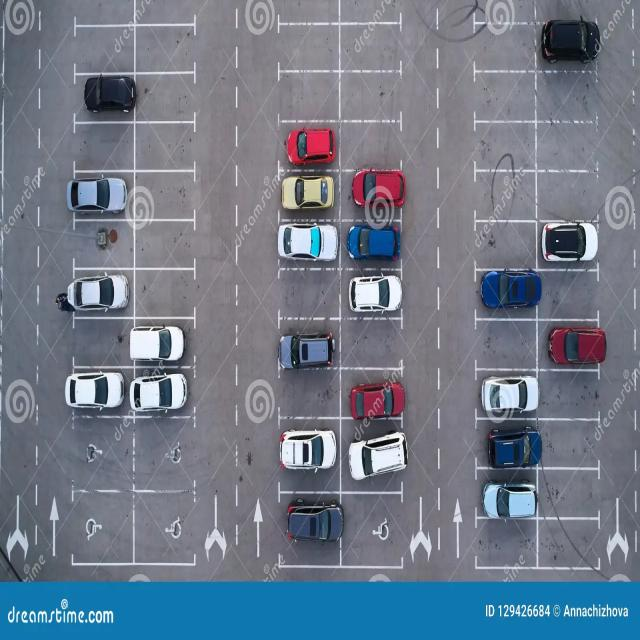discapacitados: (69, 416, 194, 565), (345, 495, 406, 565)
libre: (471, 265, 602, 576), (71, 0, 192, 328), (276, 2, 401, 167), (275, 264, 404, 413), (64, 315, 130, 372)
ocupado: (275, 414, 344, 566), (343, 166, 404, 318), (474, 379, 539, 519), (279, 121, 340, 264), (345, 376, 414, 488), (62, 377, 200, 419), (541, 10, 603, 68), (470, 270, 539, 316), (70, 71, 131, 123), (66, 171, 131, 217), (540, 218, 601, 266), (130, 324, 192, 364), (68, 275, 131, 314)
